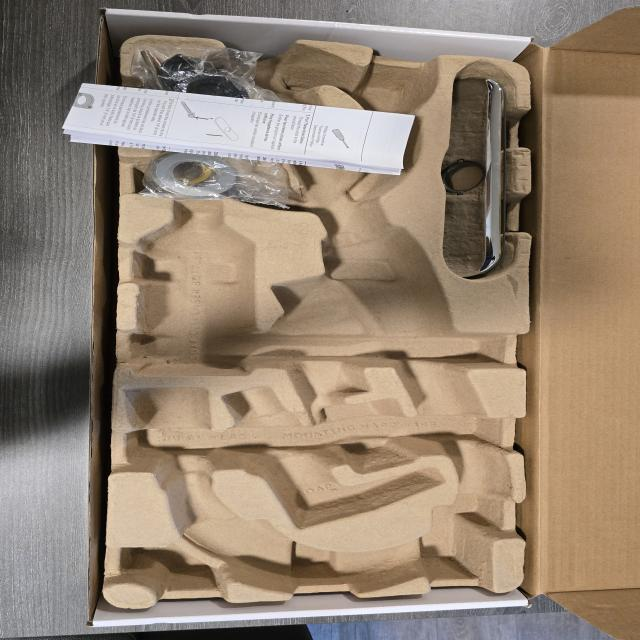1m: (122, 43, 510, 587)
2m: (224, 385, 439, 529)
3m: (131, 199, 256, 377)
4: (442, 76, 503, 278)
5m: (354, 75, 424, 118)
6o: (133, 124, 292, 209)
7o: (129, 47, 301, 137)
8: (62, 82, 418, 176)
